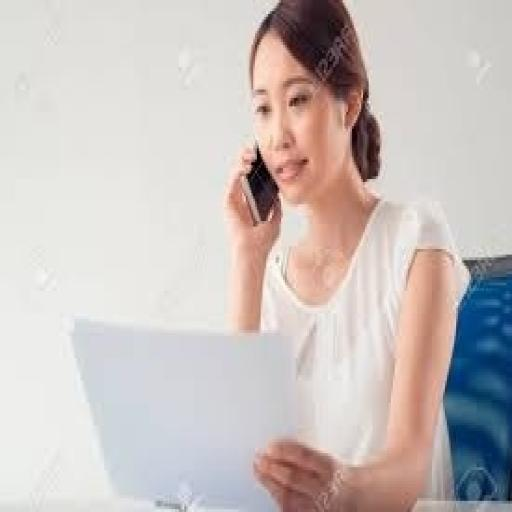calling: (220, 0, 473, 509)
